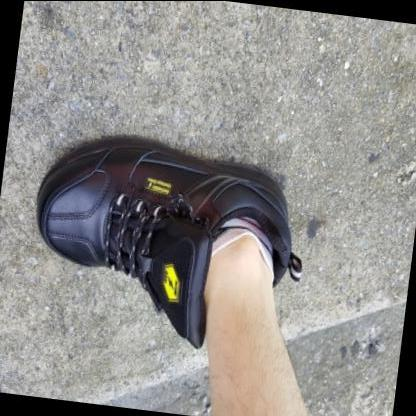safety-shoe: (17, 96, 322, 372)
